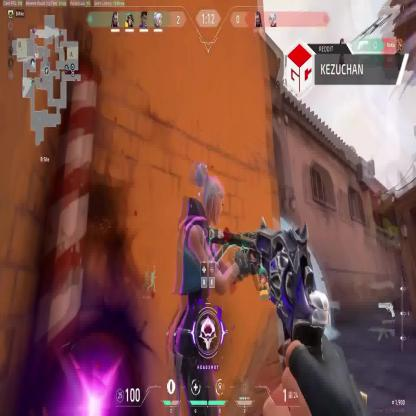enemy: (170, 152, 241, 416)
enemy_head: (195, 162, 225, 225)
